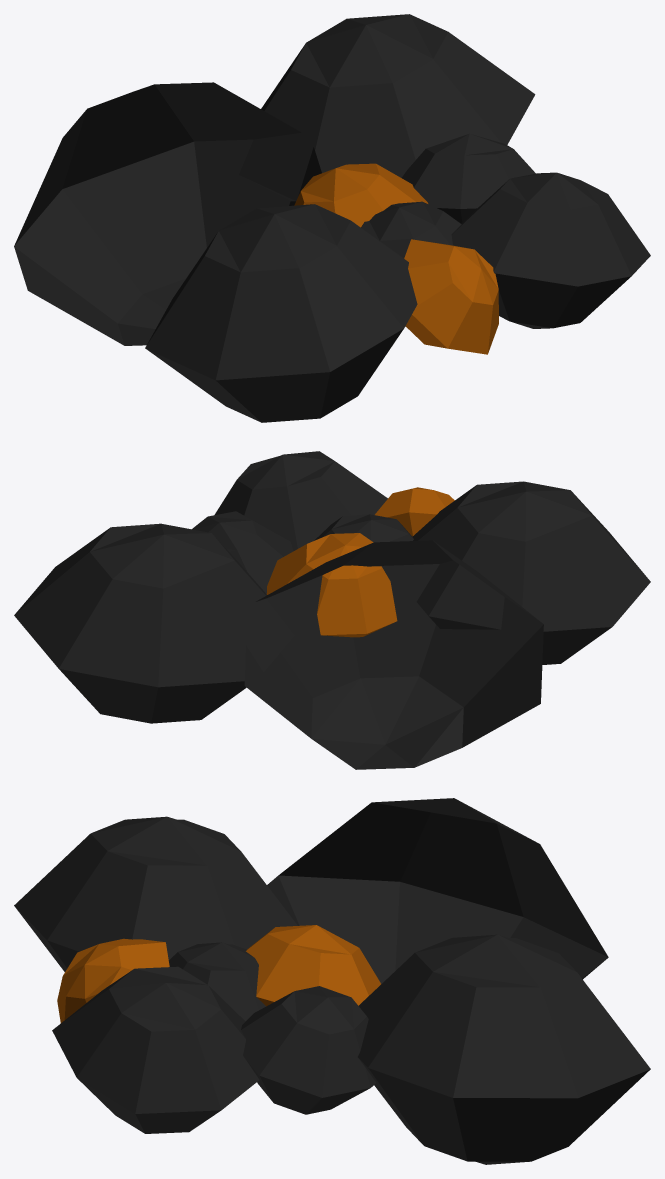
The model's file is gold1.obj.
3 renders of one model, top to bottom at view 1: azimuth 30°, elevation 25°; view 2: azimuth 150°, elevation 25°; view 3: azimuth 270°, elevation 25°, orthographic. The views are drawn at different scales.
Parts seen in each view (by area): view 1: Cube.002, Cube.000_Cube.004, Cube.003_Cube.006, Cube.006_Cube.009, Cube.004_Cube.007, Cube.007_Cube.010, Cube.001_Cube.005, Cube.005_Cube.008; view 2: Cube.002, Cube.003_Cube.006, Cube.000_Cube.004, Cube.006_Cube.009, Cube.001_Cube.005, Cube.007_Cube.010, Cube.004_Cube.007, Cube.005_Cube.008; view 3: Cube.003_Cube.006, Cube.002, Cube.000_Cube.004, Cube.006_Cube.009, Cube.007_Cube.010, Cube.001_Cube.005, Cube.004_Cube.007, Cube.005_Cube.008.
Boxes of the visible parts, x1=… form: Cube.002: x1=14, y1=82, x2=321, y2=345; Cube.000_Cube.004: x1=145, y1=204, x2=417, y2=422; Cube.003_Cube.006: x1=239, y1=14, x2=535, y2=201; Cube.006_Cube.009: x1=451, y1=172, x2=650, y2=328; Cube.004_Cube.007: x1=404, y1=239, x2=498, y2=354; Cube.007_Cube.010: x1=402, y1=133, x2=535, y2=223; Cube.001_Cube.005: x1=294, y1=163, x2=428, y2=227; Cube.005_Cube.008: x1=361, y1=201, x2=461, y2=326; Cube.002: x1=244, y1=540, x2=543, y2=769; Cube.003_Cube.006: x1=14, y1=523, x2=294, y2=723; Cube.000_Cube.004: x1=412, y1=481, x2=650, y2=664; Cube.006_Cube.009: x1=214, y1=451, x2=387, y2=550; Cube.001_Cube.005: x1=266, y1=533, x2=397, y2=637; Cube.007_Cube.010: x1=192, y1=511, x2=293, y2=593; Cube.004_Cube.007: x1=375, y1=487, x2=454, y2=536; Cube.005_Cube.008: x1=314, y1=514, x2=413, y2=542; Cube.003_Cube.006: x1=358, y1=934, x2=650, y2=1164; Cube.002: x1=267, y1=798, x2=608, y2=983; Cube.000_Cube.004: x1=14, y1=816, x2=297, y2=971; Cube.006_Cube.009: x1=52, y1=966, x2=259, y2=1133; Cube.007_Cube.010: x1=241, y1=986, x2=375, y2=1114; Cube.001_Cube.005: x1=246, y1=925, x2=380, y2=1006; Cube.004_Cube.007: x1=57, y1=938, x2=169, y2=1023; Cube.005_Cube.008: x1=169, y1=942, x2=265, y2=1021.
Size of the model in its own units: 3.42 by 1.45 by 3.49.
